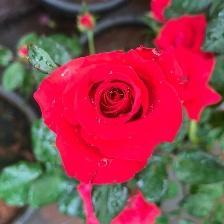rose: (33, 56, 182, 167), (155, 14, 206, 59)
